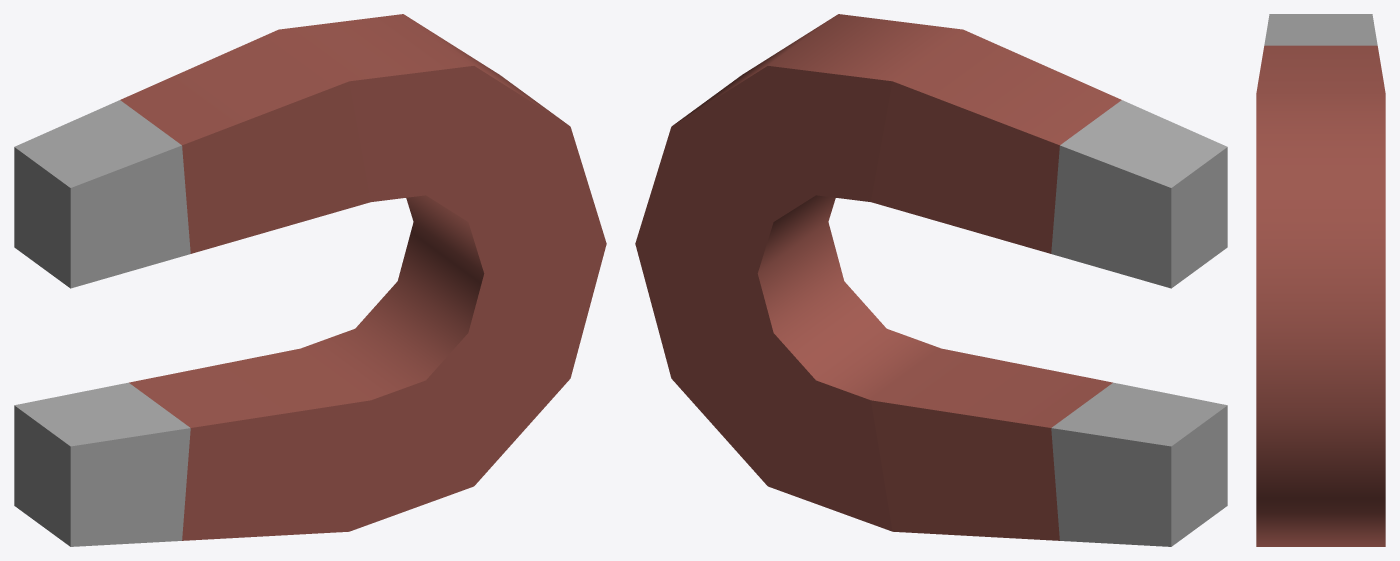
File: Magnet.fbx
3 renders of one model, left to right at view 1: azimuth 30°, elevation 25°; view 2: azimuth 150°, elevation 25°; view 3: azimuth 270°, elevation 25°, orthographic. The views are drawn at different scales.
Parts seen in each view (by area): view 1: Magnet, Magnet1; view 2: Magnet, Magnet1; view 3: Magnet, Magnet1.
Boxes of the visible parts, x1=… form: Magnet: x1=120, y1=14, x2=606, y2=540; Magnet1: x1=14, y1=100, x2=190, y2=546; Magnet: x1=635, y1=14, x2=1121, y2=540; Magnet1: x1=1051, y1=100, x2=1227, y2=546; Magnet: x1=1256, y1=45, x2=1385, y2=546; Magnet1: x1=1264, y1=14, x2=1377, y2=45.
Bounding box in the file's own units: 3.85 × 3.13 × 0.8918.
